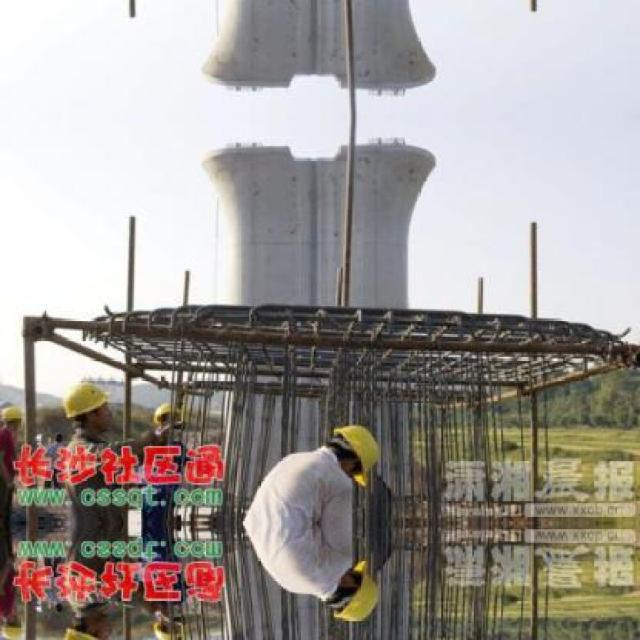helmet: (325, 420, 383, 478), (58, 373, 114, 433), (325, 567, 383, 624), (57, 611, 115, 638), (151, 402, 184, 435), (150, 610, 184, 638), (4, 402, 24, 432), (3, 612, 25, 638)
